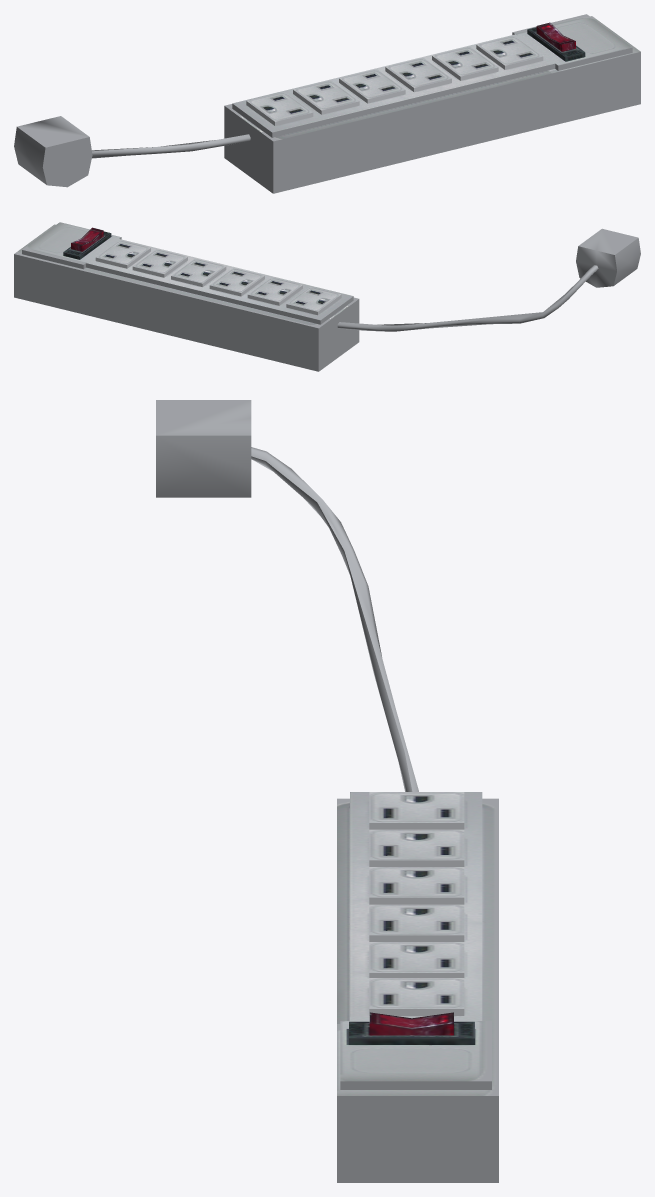
File: powerstrip_l_lod1.fbx
The picture shows the model from 3 angles, top to bottom: view 1: azimuth 30°, elevation 25°; view 2: azimuth 150°, elevation 25°; view 3: azimuth 270°, elevation 25°; orthographic projection. The views are drawn at different scales.
Parts seen in each view (by area): view 1: body, sockets, Box02, cord, light, lightbase; view 2: body, sockets, Box02, cord, light, lightbase; view 3: body, sockets, Box02, cord, lightbase, light.
Boxes of the visible parts, x1,y1,x2,y2 form: body: [224, 14, 640, 193]; sockets: [246, 35, 543, 125]; Box02: [14, 116, 92, 187]; cord: [92, 134, 250, 158]; light: [536, 22, 575, 51]; lightbase: [527, 27, 585, 61]; body: [14, 222, 359, 371]; sockets: [95, 240, 341, 315]; Box02: [576, 228, 640, 287]; cord: [337, 265, 598, 331]; light: [71, 227, 103, 251]; lightbase: [63, 231, 111, 259]; body: [337, 792, 498, 1182]; sockets: [369, 792, 464, 1015]; Box02: [156, 400, 251, 497]; cord: [251, 447, 418, 791]; lightbase: [349, 1021, 474, 1044]; light: [369, 1012, 453, 1035].
Bounding box in the file's own units: 2.31 × 0.5236 × 0.6337.
